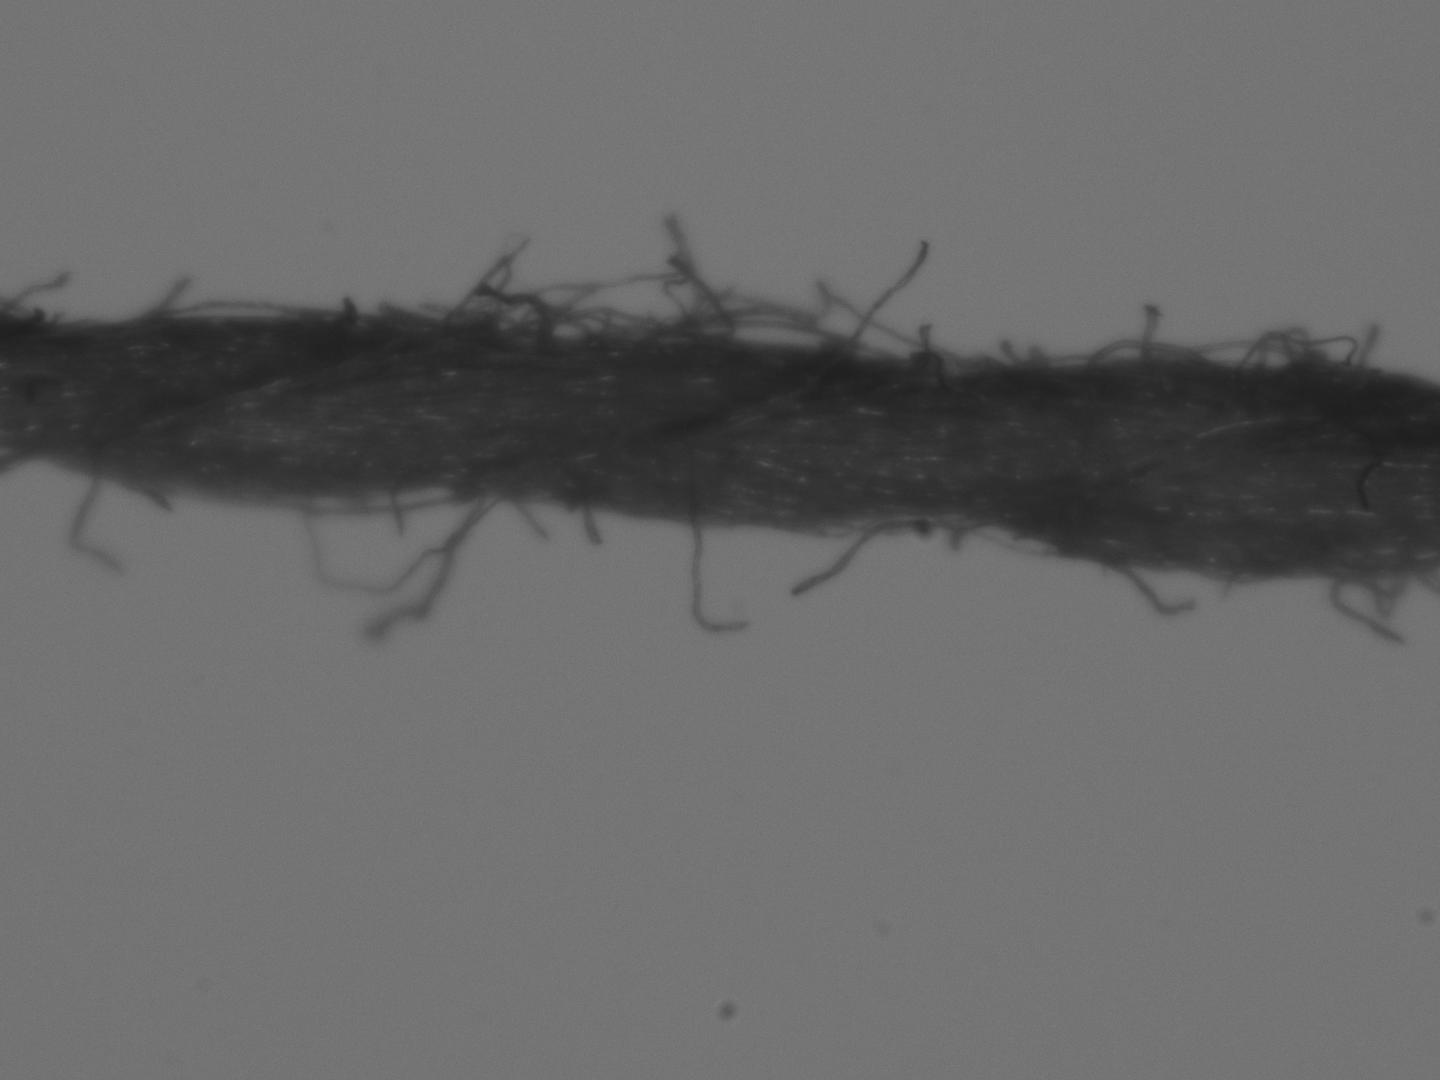loop_fiber: (431, 208, 1008, 377), (188, 482, 508, 592), (1014, 324, 1355, 373), (941, 521, 1123, 560), (166, 299, 355, 327), (1354, 571, 1413, 623), (0, 292, 65, 322)
protruding_fiber: (369, 490, 510, 648), (785, 521, 934, 600), (845, 234, 930, 361), (684, 521, 749, 633), (67, 461, 129, 577), (1324, 572, 1412, 651), (1101, 551, 1197, 619), (9, 268, 70, 318), (135, 272, 196, 317), (574, 501, 611, 547), (515, 500, 551, 545), (1140, 298, 1160, 363), (1357, 320, 1380, 365)
